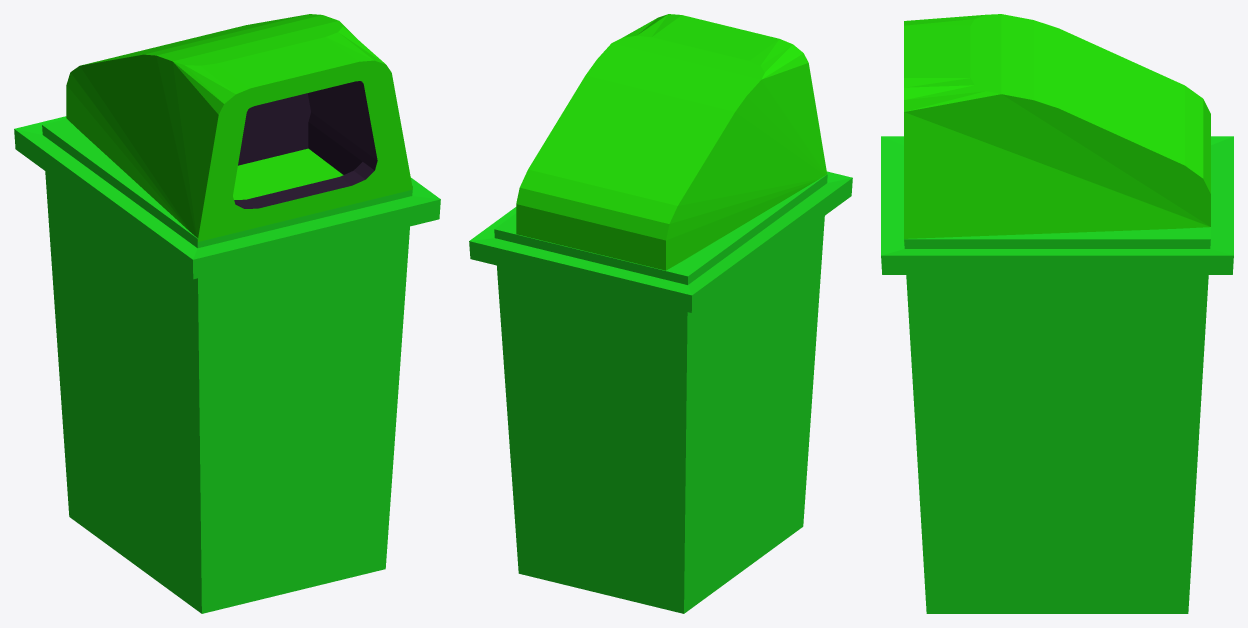
File: TachoDeBasura 1.fbx
3 renders of one model, left to right at view 1: azimuth 30°, elevation 25°; view 2: azimuth 150°, elevation 25°; view 3: azimuth 270°, elevation 25°, orthographic. The views are drawn at different scales.
Visible parts, largest first — view 1: Cube.005; view 2: Cube.005; view 3: Cube.005.
Boxes of the visible parts, bbox=[...] form: Cube.005: bbox=[14, 14, 440, 613]; Cube.005: bbox=[469, 14, 852, 613]; Cube.005: bbox=[881, 14, 1233, 613].
Size of the model in its own units: 68.76 by 139 by 85.95.
